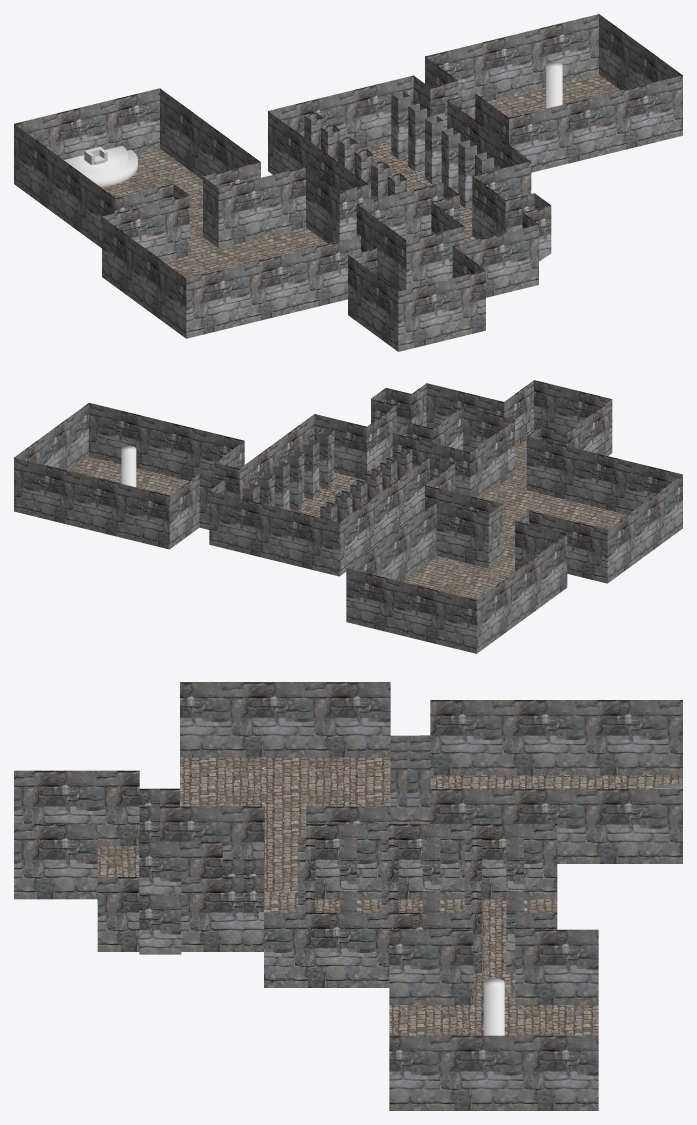
File: level.glb
3 views of the same model, one above another, from view 1: azimuth 30°, elevation 25°; view 2: azimuth 150°, elevation 25°; view 3: azimuth 270°, elevation 25° (orthographic). The views are drawn at different scales.
Visible parts, largest first — view 1: Room 4, Room 2, Room 1, Room 6, Room 5, Room 3, Dais, Fountain; view 2: Room 1, Room 6, Room 2, Room 4, Room 5, Room 3, Fountain; view 3: Room 1, Room 6, Room 4, Room 2, Room 5, Room 3, Fountain.
Boxes of the visible parts, x1=… form: Room 4: x1=102, y1=167, x2=398, y2=338; Room 2: x1=425, y1=14, x2=682, y2=172; Room 1: x1=268, y1=75, x2=531, y2=242; Room 6: x1=14, y1=88, x2=260, y2=248; Room 5: x1=348, y1=230, x2=485, y2=351; Room 3: x1=431, y1=182, x2=551, y2=297; Dais: x1=64, y1=145, x2=137, y2=186; Fountain: x1=546, y1=62, x2=562, y2=108; Room 1: x1=209, y1=414, x2=454, y2=576; Room 6: x1=346, y1=502, x2=567, y2=653; Room 2: x1=14, y1=403, x2=244, y2=549; Room 4: x1=425, y1=425, x2=682, y2=583; Room 5: x1=476, y1=380, x2=612, y2=483; Room 3: x1=371, y1=383, x2=491, y2=470; Fountain: x1=121, y1=446, x2=136, y2=487; Room 1: x1=243, y1=824, x2=557, y2=996; Room 6: x1=407, y1=700, x2=682, y2=863; Room 4: x1=160, y1=682, x2=407, y2=892; Room 2: x1=389, y1=928, x2=598, y2=1110; Room 5: x1=14, y1=770, x2=159, y2=900; Room 3: x1=97, y1=841, x2=243, y2=954; Fountain: x1=483, y1=978, x2=504, y2=1035.
Bounding box in the file's own units: 101 × 10.01 × 80.55.
6 materials, 6 textured.
